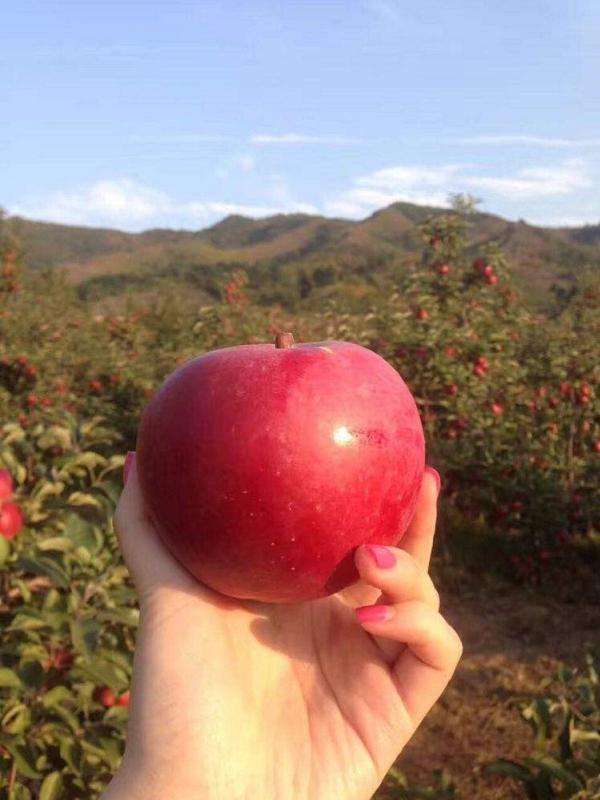apple: (131, 340, 429, 605)
